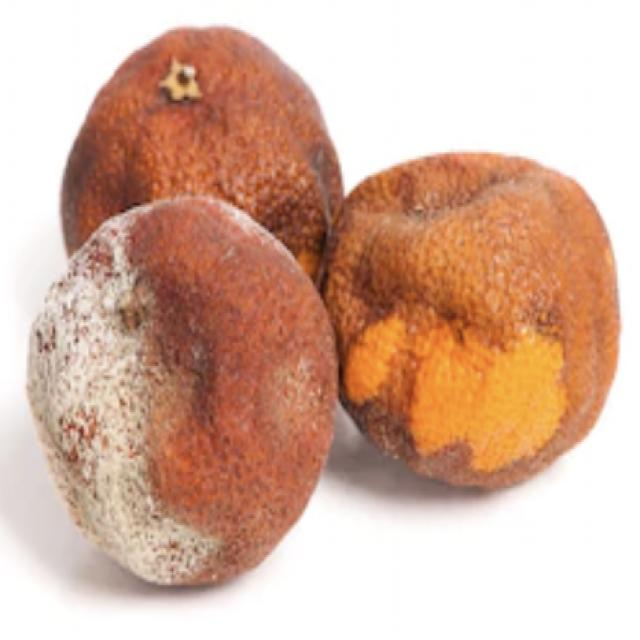rotten-orange: (28, 193, 338, 592), (322, 146, 622, 509), (47, 21, 350, 259)
